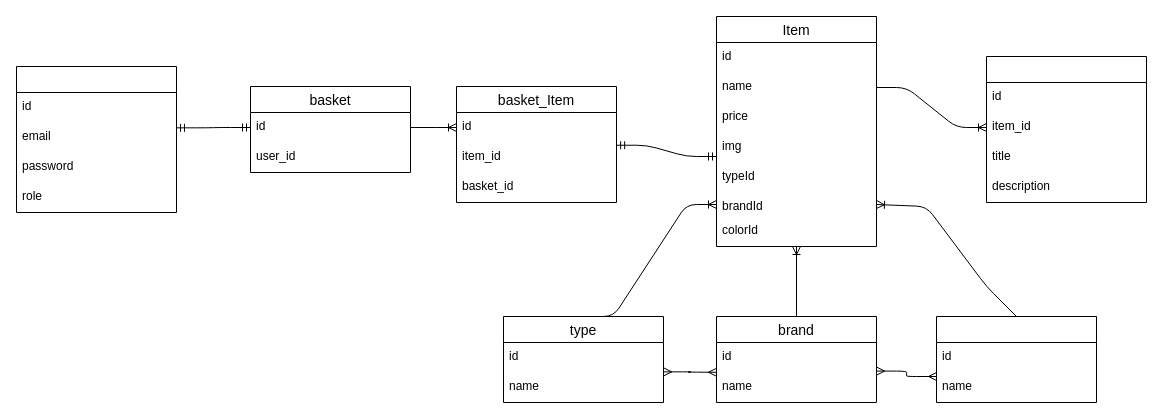
This 1163x419 diagram has some shape labels left out. The shapes that lost their labels are listed below. From the top down, each one's box as (x1, y1, x2, y2) in pixels, then its label:
(16, 66, 176, 212): user
(986, 56, 1146, 202): Item_info
(936, 316, 1096, 402): color
